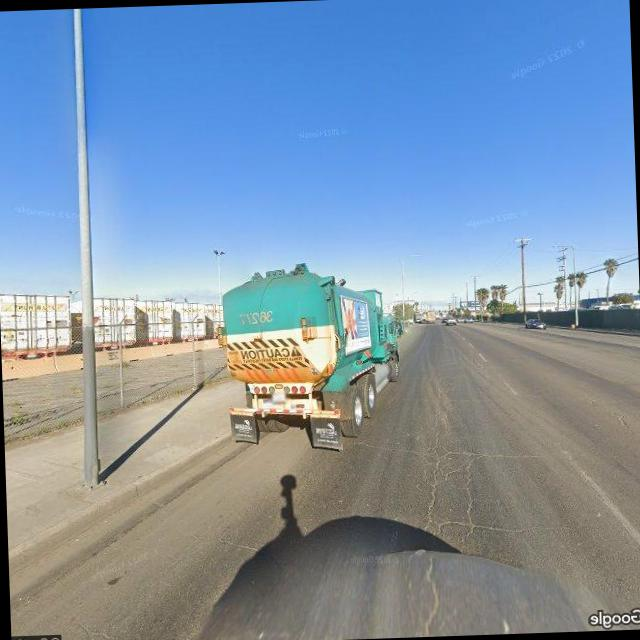crack: (402, 396, 512, 540)
